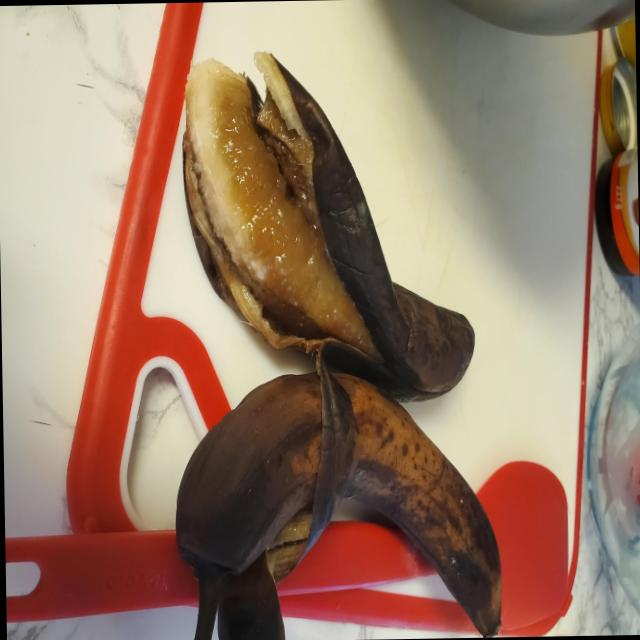banana_peel: (164, 25, 499, 423), (165, 333, 544, 637)
